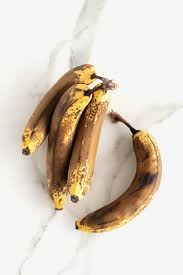banana: (19, 59, 108, 211), (113, 113, 164, 234)
